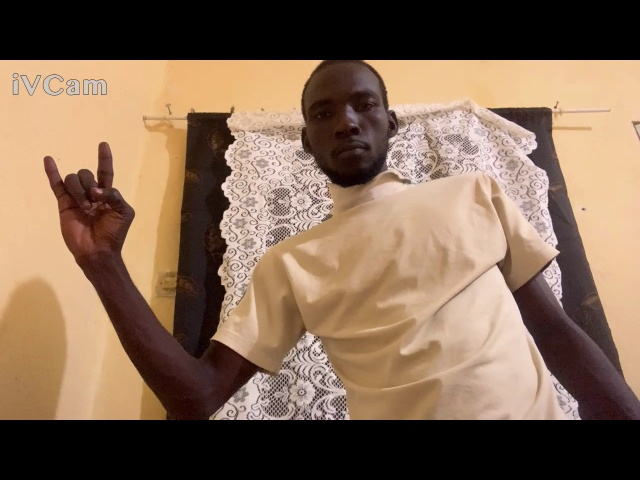je t'aime: (35, 136, 145, 273)
